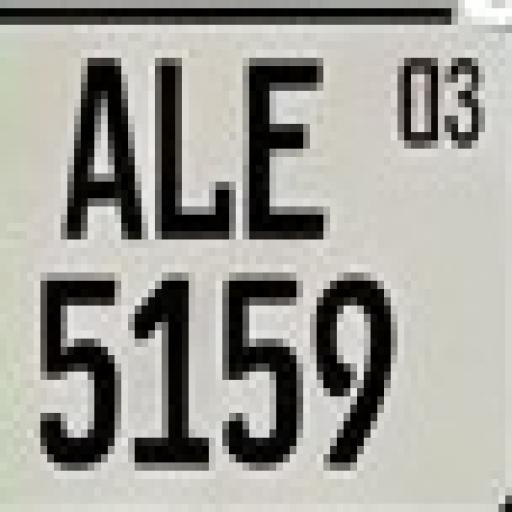1: (135, 274, 207, 474)
5: (25, 268, 128, 473), (216, 271, 301, 467)
9: (311, 275, 406, 476)
A: (72, 55, 145, 247)
E: (249, 46, 332, 241)
L: (151, 40, 243, 246)
